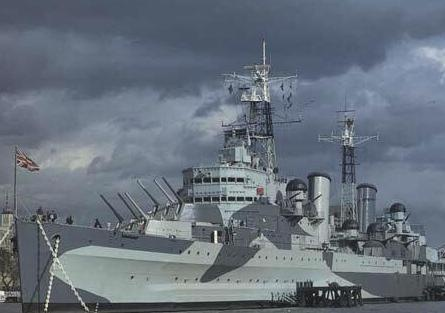warship: (22, 55, 445, 300)
